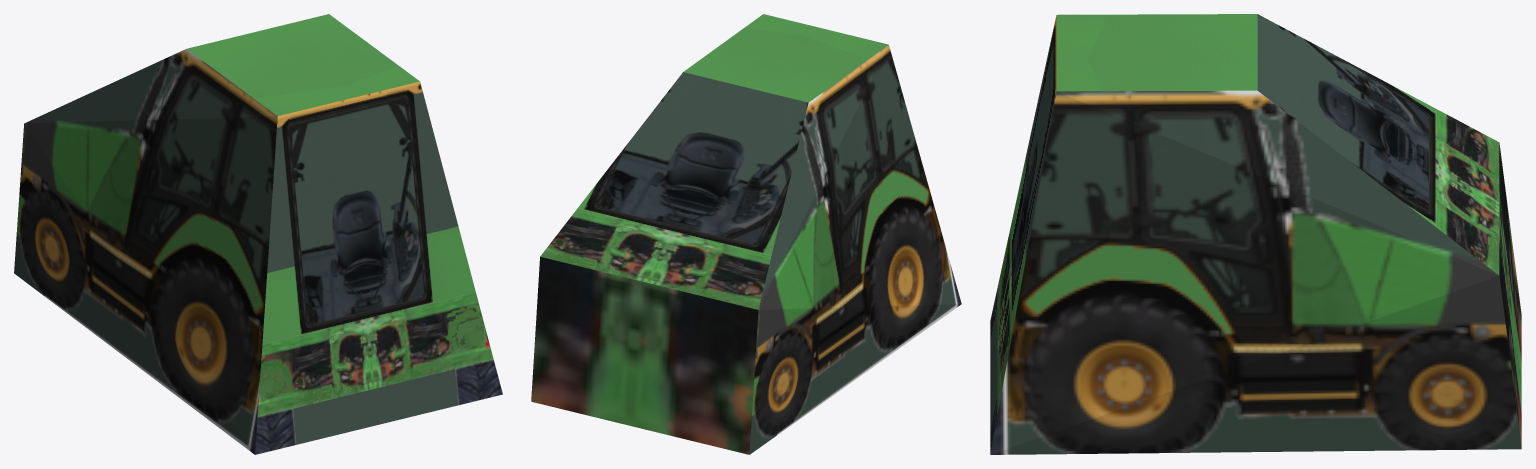
Rendered from tractor-farm-cbj_LOD02.gltf.
The picture shows the model from 3 angles, left to right: view 1: azimuth 30°, elevation 25°; view 2: azimuth 150°, elevation 25°; view 3: azimuth 270°, elevation 25°; orthographic projection. The views are drawn at different scales.
Parts seen in each view (by area): view 1: Cylinder; view 2: Cylinder; view 3: Cylinder.
Part boxes in pixels (x1,y1,x2,y2): Cylinder: (14,14,502,454); Cylinder: (531,14,961,454); Cylinder: (990,14,1521,454).
Size of the model in its own units: 2.4 by 2.82 by 4.04.
